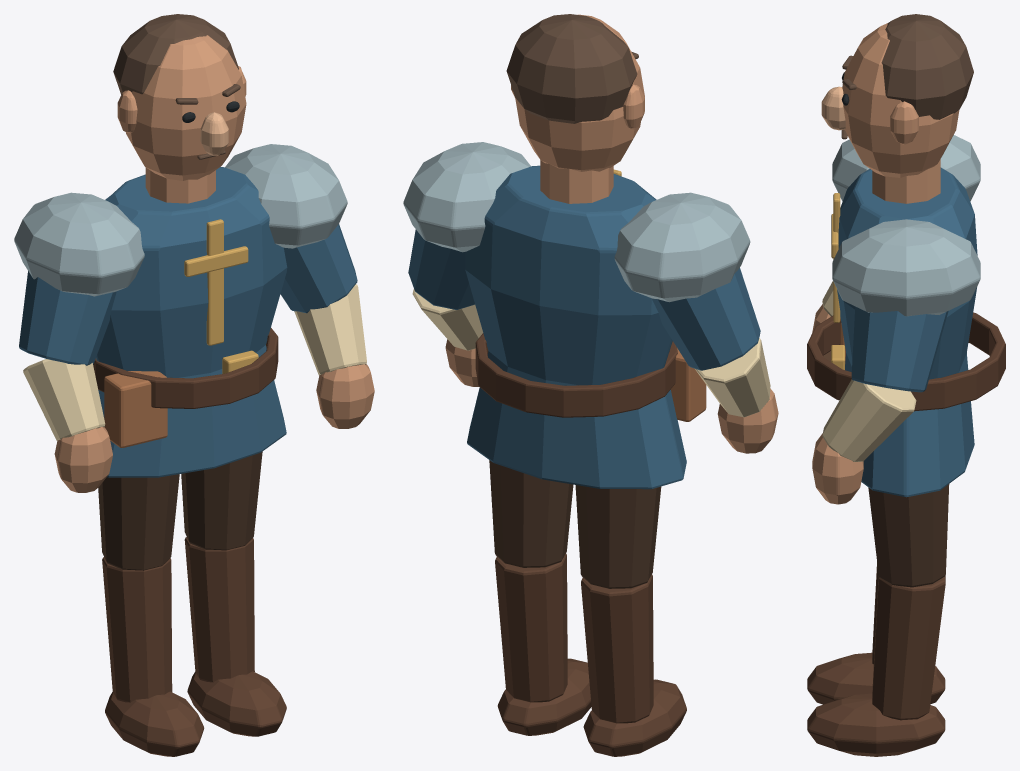
The model's file is royal_guard_body.glb.
3 views of the same model, side by side, from view 1: azimuth 30°, elevation 25°; view 2: azimuth 150°, elevation 25°; view 3: azimuth 270°, elevation 25° (orthographic). The views are drawn at different scales.
Parts seen in each view (by area): view 1: royal_guard_body__structure, royal_guard_body__finish, royal_guard_body__attachments; view 2: royal_guard_body__structure, royal_guard_body__finish, royal_guard_body__attachments; view 3: royal_guard_body__structure, royal_guard_body__finish.
Boxes of the visible parts, bbox=[...] form: royal_guard_body__structure: bbox=[19, 35, 366, 702]; royal_guard_body__finish: bbox=[14, 14, 374, 756]; royal_guard_body__attachments: bbox=[104, 371, 167, 447]; royal_guard_body__structure: bbox=[408, 14, 770, 723]; royal_guard_body__finish: bbox=[403, 14, 778, 756]; royal_guard_body__attachments: bbox=[670, 348, 706, 421]; royal_guard_body__structure: bbox=[821, 23, 977, 720]; royal_guard_body__finish: bbox=[807, 14, 1005, 756].
Size of the model in its own units: 0.9568 by 1.95 by 0.494.
